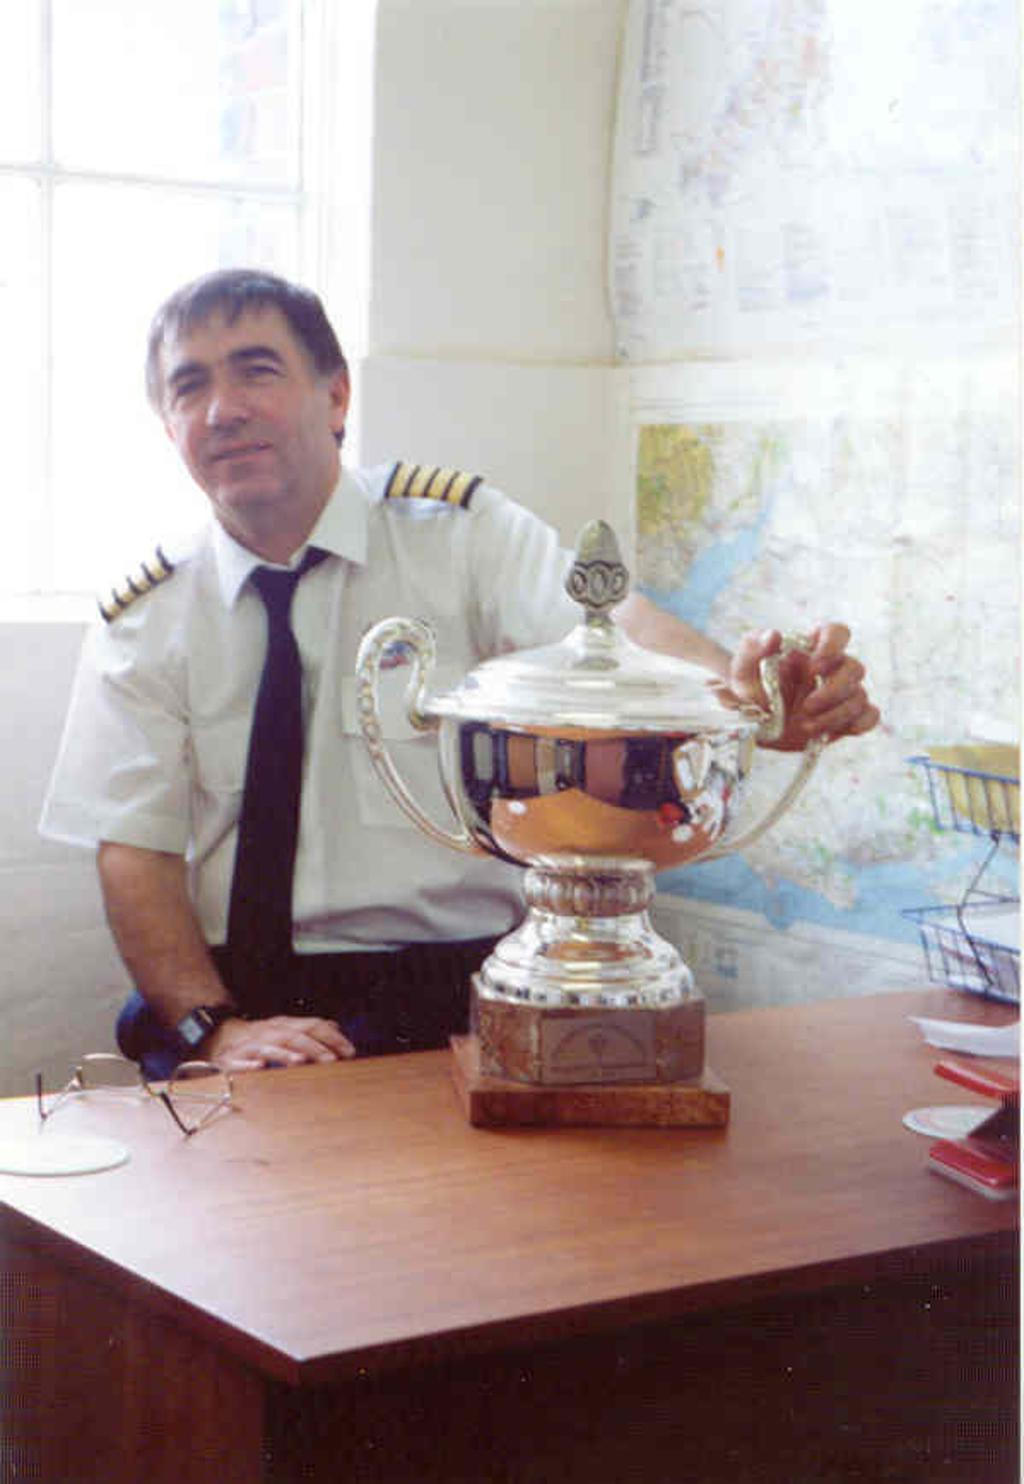face: (157, 307, 325, 507)
